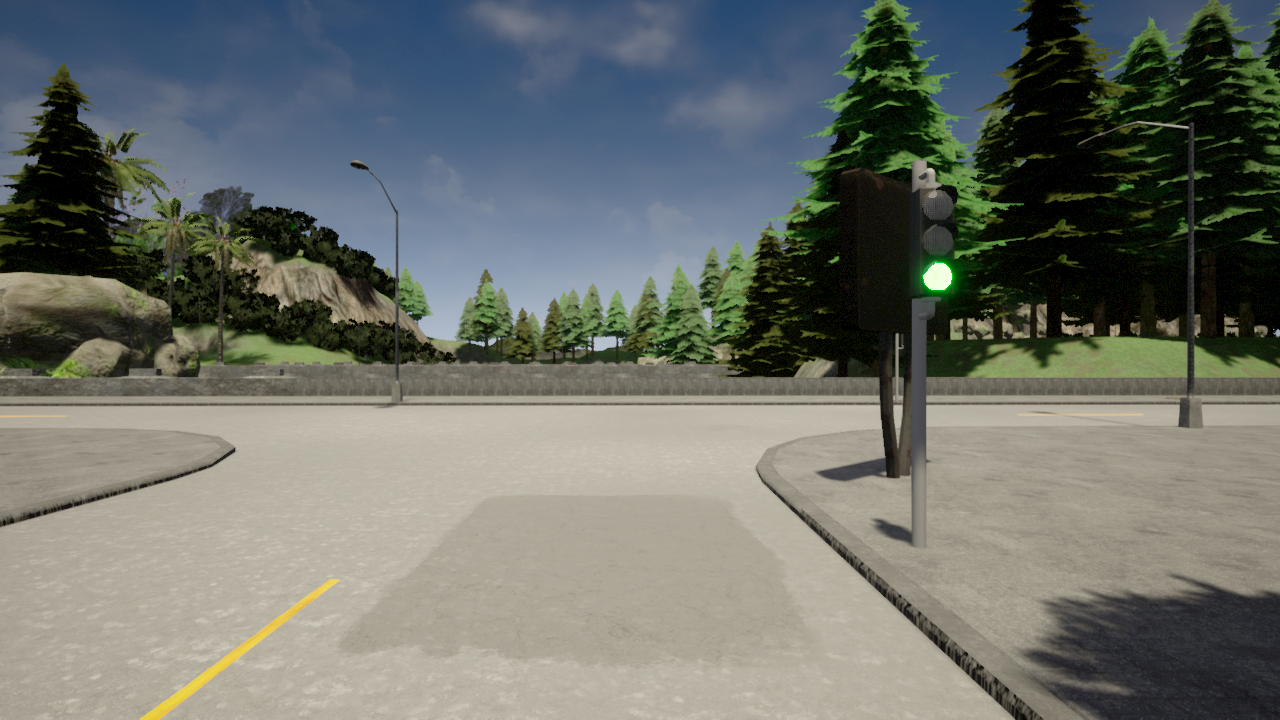green: (913, 184, 960, 301)
